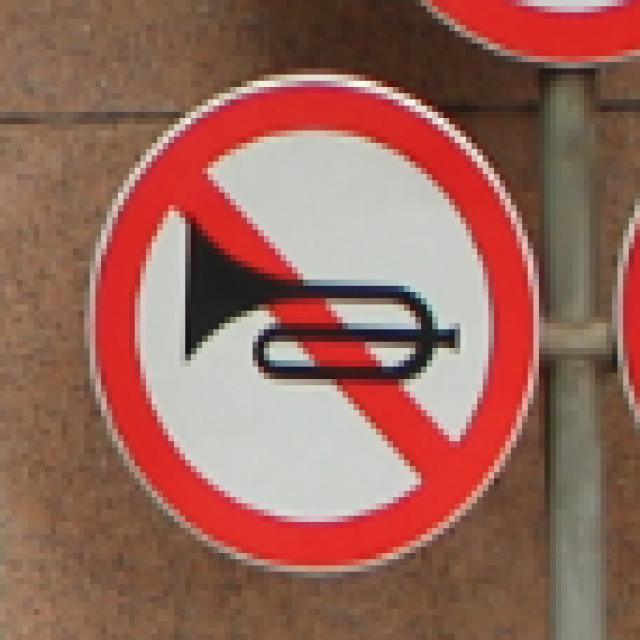No Horn: (80, 65, 546, 572)
